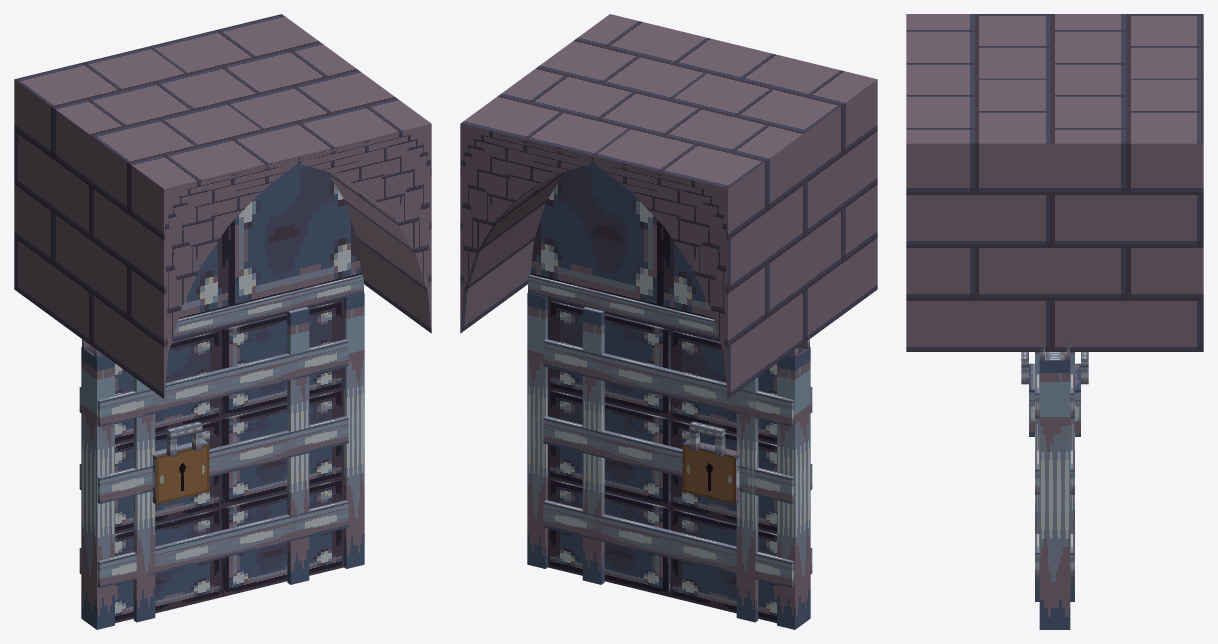
File: door_locked.glb
The picture shows the model from 3 angles, left to right: view 1: azimuth 30°, elevation 25°; view 2: azimuth 150°, elevation 25°; view 3: azimuth 270°, elevation 25°; orthographic projection.
Parts seen in each view (by area): view 1: portal, leaf, lock; view 2: portal, leaf, lock; view 3: portal, leaf, lock.
Part boxes in pixels (box(x1,y1,x2,y2)): portal: box(14, 14, 431, 629); leaf: box(79, 297, 348, 623); lock: box(152, 421, 209, 504); portal: box(460, 14, 877, 629); leaf: box(543, 297, 812, 623); lock: box(682, 421, 739, 504); portal: box(906, 14, 1203, 629); leaf: box(1035, 352, 1074, 601); lock: box(1021, 352, 1088, 436).
Size of the model in its own units: 2 by 3.5 by 1.94.
Materials: 1 (1 with a texture image).
